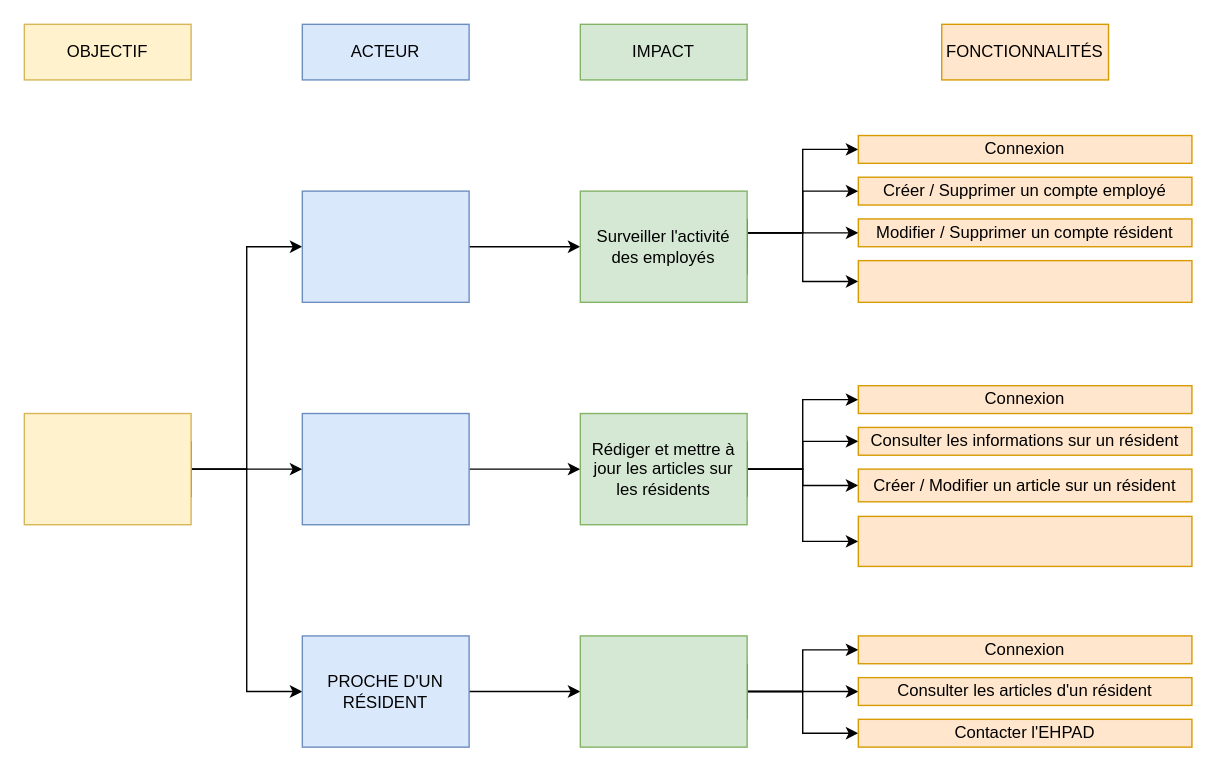
Some shapes in this 1216 by 771 pixel diagram are drawn without their labels. The box of each missing label's shape, as (x1, y1, x2, y2) in pixels:
Contacter les proches d'un résident en cas d'urgence: (857, 515, 1192, 566)
EMPLOYÉ: (301, 412, 469, 525)
Mise en place d'un système d'information efficace: (23, 412, 191, 525)
RESPONSABLE: (301, 190, 469, 302)
S'informer sur un résident: (579, 635, 747, 747)
Visualiser les articles publiés par les employés sur des résidents: (857, 259, 1192, 302)
